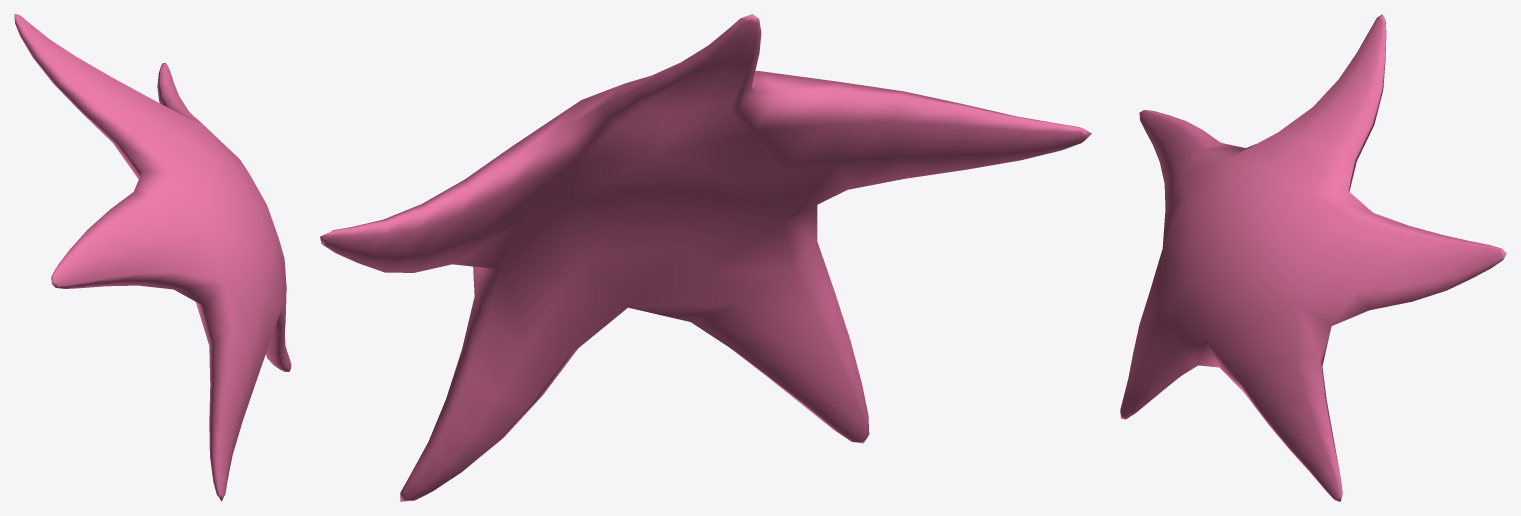
File: CUStarfish.fbx
The picture shows the model from 3 angles, left to right: view 1: azimuth 30°, elevation 25°; view 2: azimuth 150°, elevation 25°; view 3: azimuth 270°, elevation 25°; orthographic projection. The views are drawn at different scales.
Visible parts, largest first — view 1: StarFishv2.001; view 2: StarFishv2.001; view 3: StarFishv2.001.
Part boxes in pixels (box(x1,y1,x2,y2)): StarFishv2.001: box(14, 14, 291, 501); StarFishv2.001: box(320, 14, 1091, 501); StarFishv2.001: box(1120, 14, 1506, 501).
Size of the model in its own units: 87.51 by 96.73 by 90.49.
